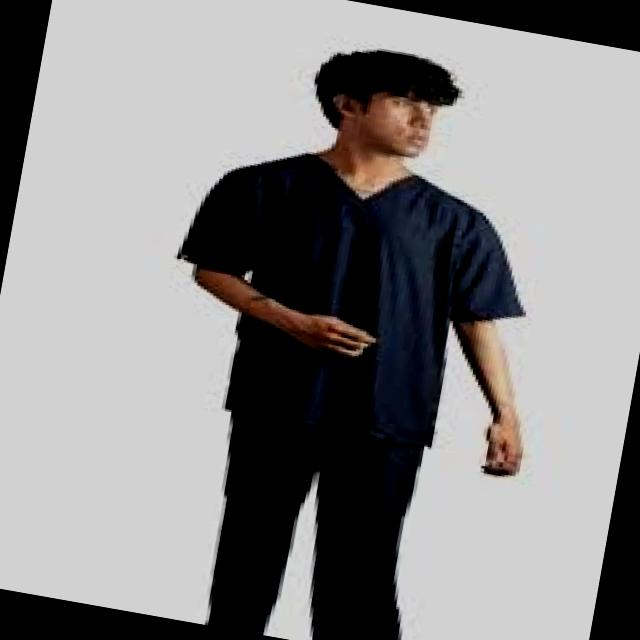face: (335, 91, 436, 158)
lower-wear: (208, 413, 423, 639)
top-wear: (176, 151, 525, 447)
